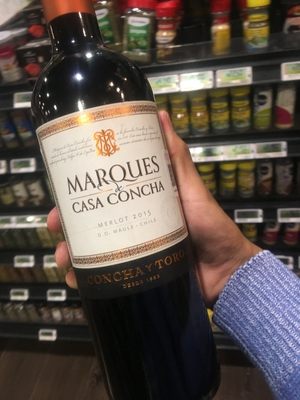marques de casa concha merlot: (33, 13, 236, 397)
